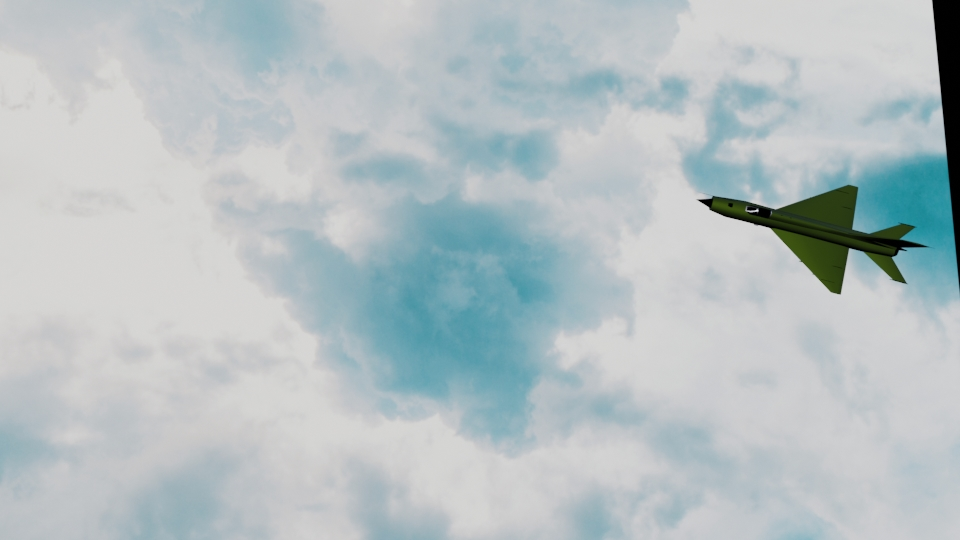plane: (698, 183, 927, 298)
